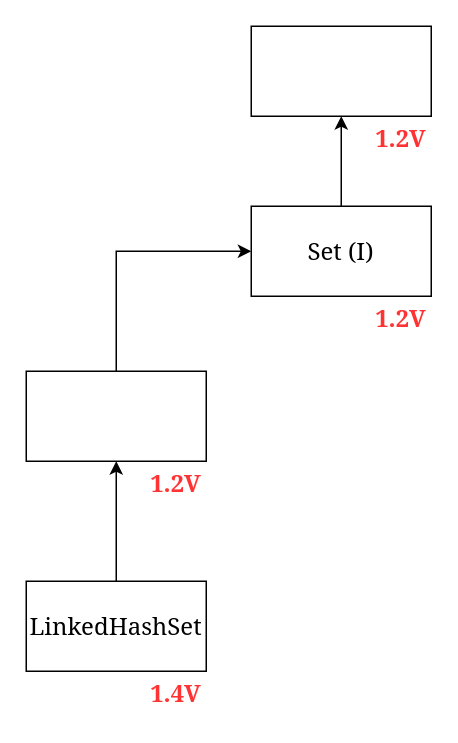
The diagram is 458 pixels wide and 743 high, and some of its shapes have lost their labels. Each missing label, with the centre of its shape:
Collection (I): the point at 340,70
HashSet: the point at 115,415
